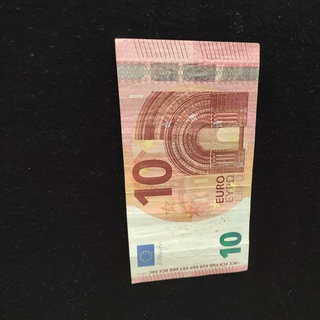10EUROFront: (113, 36, 260, 285)
